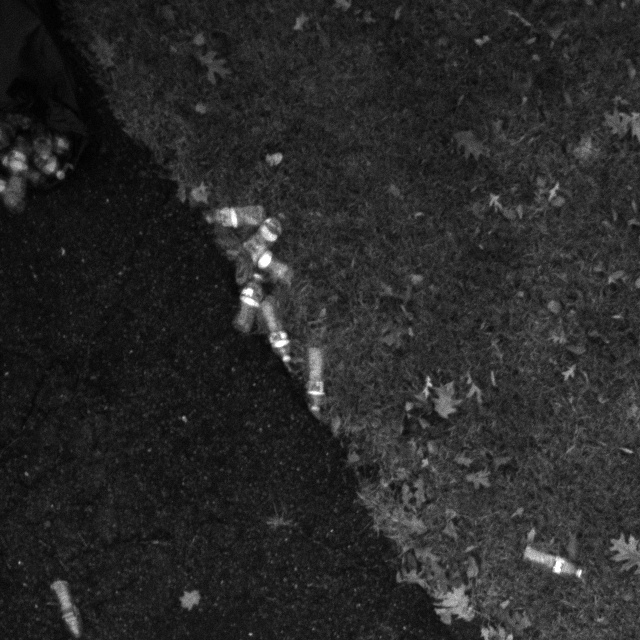bottle: (213, 241, 301, 289), (220, 217, 287, 279), (513, 537, 589, 589), (256, 298, 304, 374), (197, 192, 277, 237), (41, 571, 91, 640), (227, 274, 270, 343), (296, 344, 330, 424)
